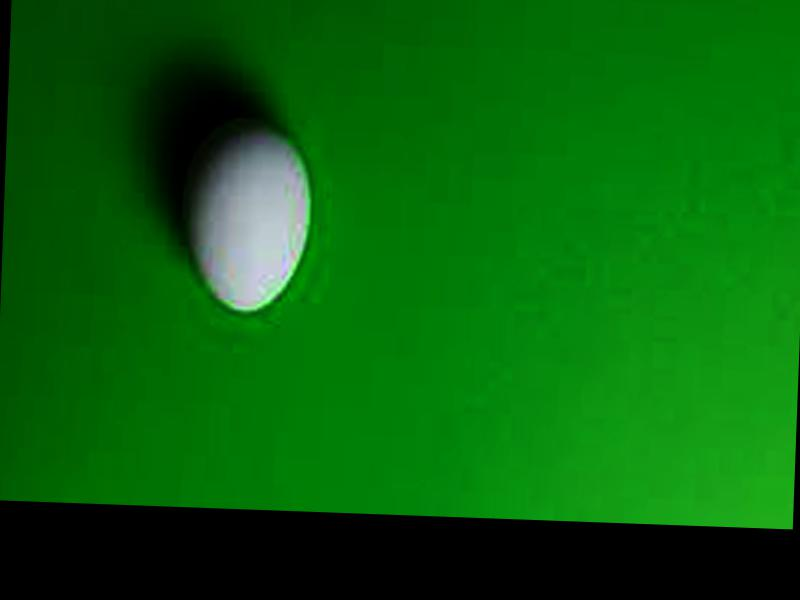Eggs: (178, 115, 311, 315)
